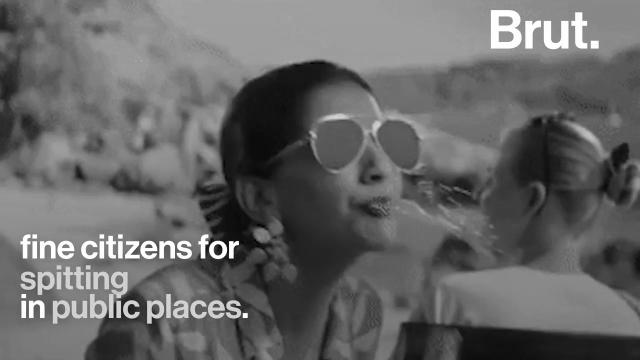spit: (282, 74, 596, 301)
